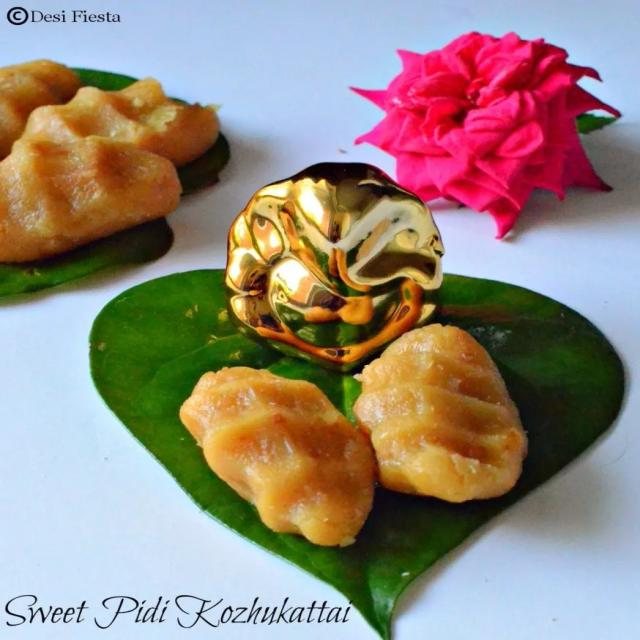pidi kolukattai: (158, 280, 546, 567), (3, 33, 195, 267)
